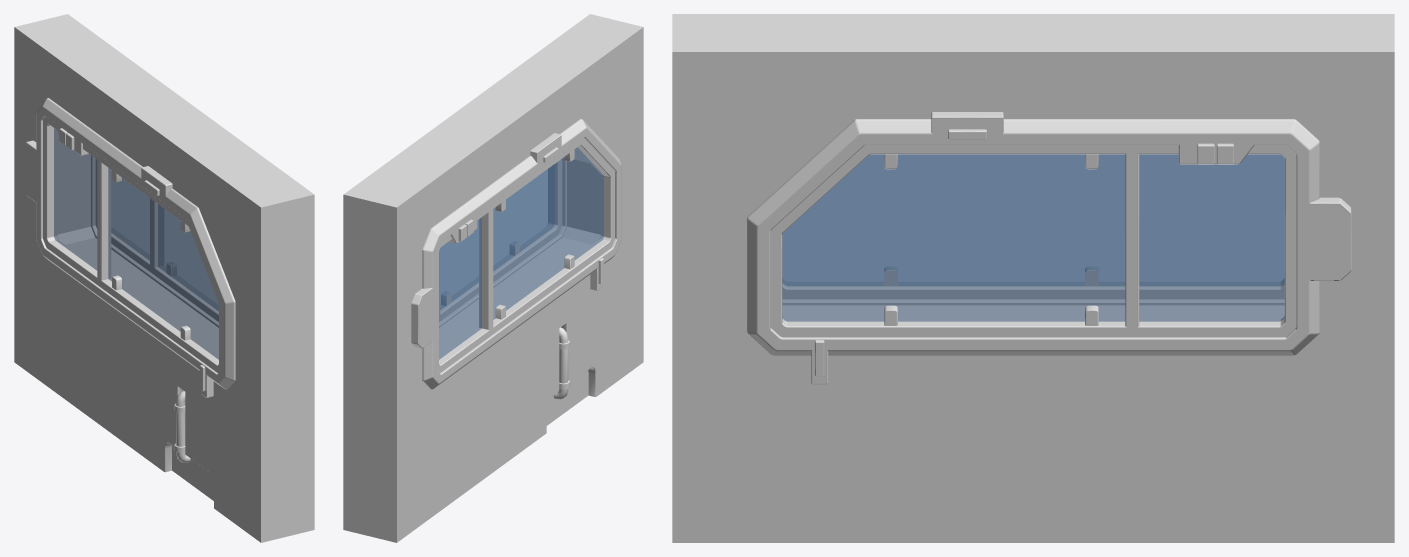
Rendered from Building_04_Wall_03_Right.fbx.
3 renders of one model, left to right at view 1: azimuth 30°, elevation 25°; view 2: azimuth 150°, elevation 25°; view 3: azimuth 270°, elevation 25°, orthographic. The views are drawn at different scales.
Parts seen in each view (by area): view 1: Building_04_Wall_03_Right, Building_04_Wall_03_R_Glass; view 2: Building_04_Wall_03_Right, Building_04_Wall_03_R_Glass; view 3: Building_04_Wall_03_Right, Building_04_Wall_03_R_Glass.
Boxes of the visible parts, bbox=[...] form: Building_04_Wall_03_Right: bbox=[14, 14, 314, 542]; Building_04_Wall_03_R_Glass: bbox=[54, 128, 218, 359]; Building_04_Wall_03_Right: bbox=[343, 14, 643, 542]; Building_04_Wall_03_R_Glass: bbox=[439, 147, 603, 359]; Building_04_Wall_03_Right: bbox=[672, 14, 1394, 542]; Building_04_Wall_03_R_Glass: bbox=[782, 154, 1284, 321].
Bounding box in the file's own units: 0.6861 × 3 × 4.
